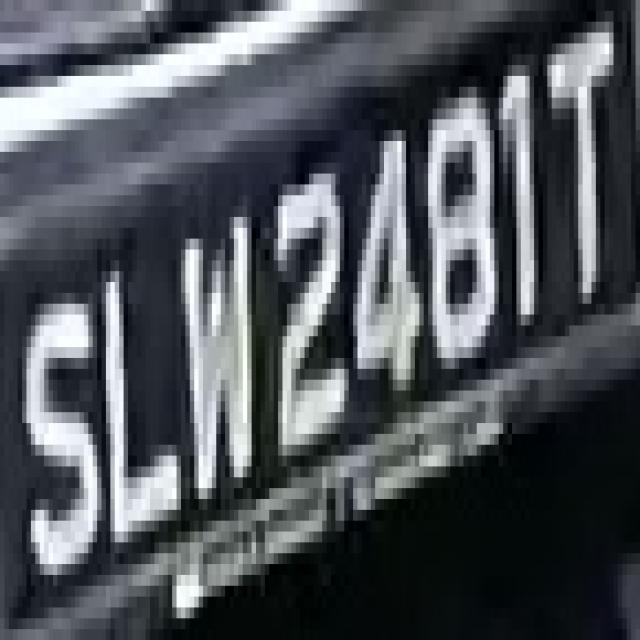1: (498, 32, 552, 369)
2: (260, 130, 344, 477)
4: (340, 108, 424, 445)
8: (424, 76, 503, 412)
L: (88, 282, 181, 564)
S: (22, 293, 106, 629)
T: (552, 22, 636, 347)
W: (176, 195, 265, 521)
